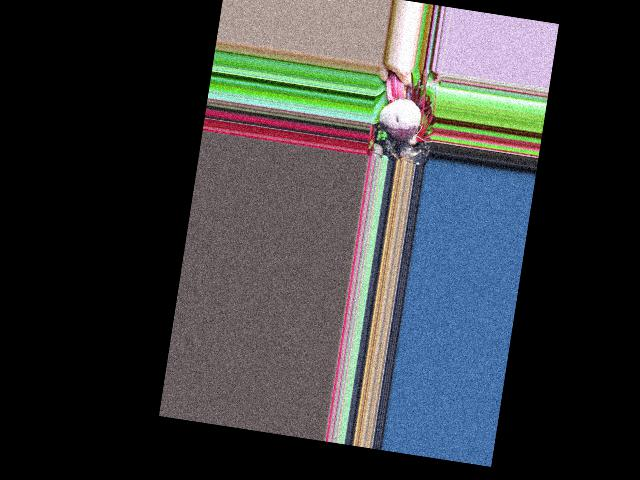beet: (373, 69, 427, 164)
